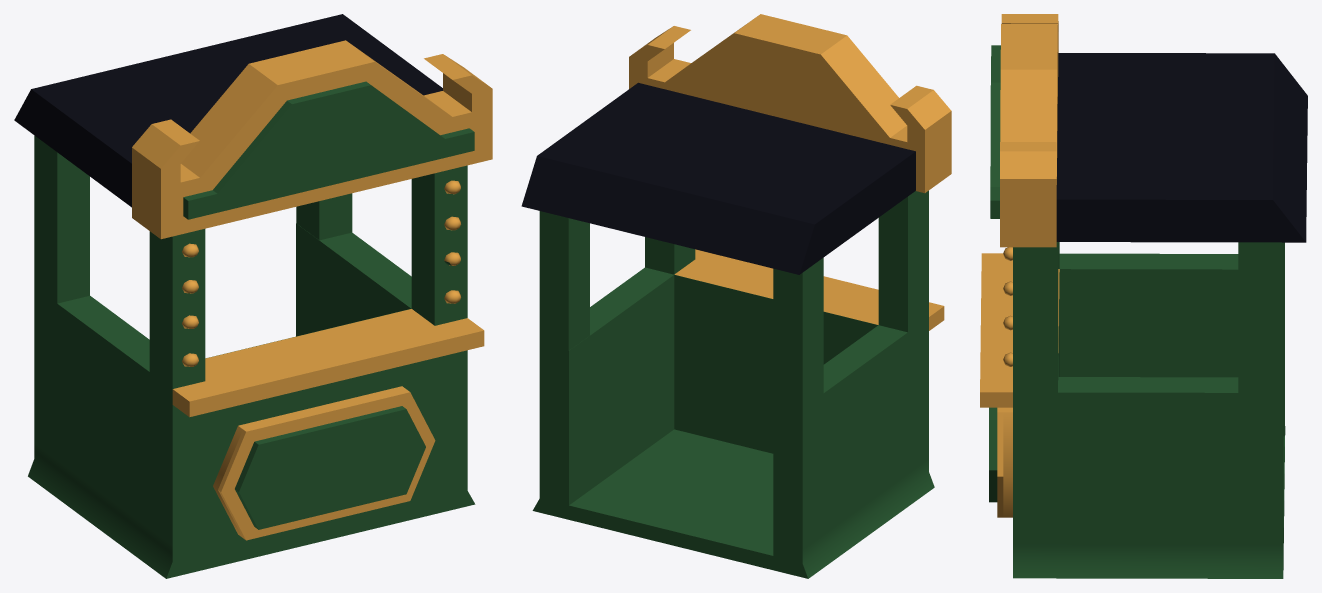
Rendered from F_Ticket_02.fbx.
The picture shows the model from 3 angles, left to right: view 1: azimuth 30°, elevation 25°; view 2: azimuth 150°, elevation 25°; view 3: azimuth 270°, elevation 25°; orthographic projection. The views are drawn at different scales.
Visible parts, largest first — view 1: F_Ticket_02; view 2: F_Ticket_02; view 3: F_Ticket_02.
Part boxes in pixels (<box>): F_Ticket_02: <box>14,14,492,578</box>; F_Ticket_02: <box>521,14,951,578</box>; F_Ticket_02: <box>980,14,1307,578</box>.
Size of the model in its own units: 212 by 290 by 188.
